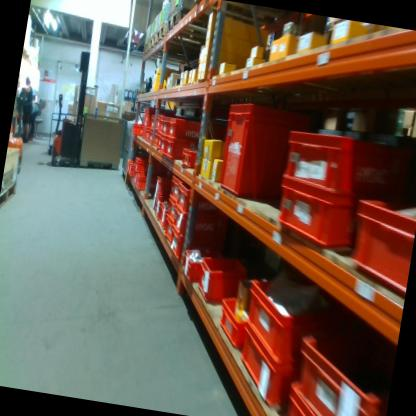pallet: (164, 4, 216, 42), (0, 177, 18, 216), (154, 20, 169, 47), (146, 31, 157, 53), (140, 43, 149, 60)
pallet_truck: (43, 42, 100, 170), (3, 104, 34, 175)
small_load_carrier: (236, 265, 344, 370), (280, 117, 408, 205), (286, 318, 397, 416), (214, 96, 303, 204), (343, 193, 416, 302), (270, 168, 362, 254), (232, 320, 306, 407), (282, 377, 360, 416), (194, 255, 246, 308), (211, 289, 253, 354), (169, 206, 225, 246), (173, 180, 226, 219), (163, 114, 216, 144), (140, 107, 176, 145), (182, 248, 208, 283), (160, 136, 190, 164), (133, 157, 164, 177), (135, 173, 162, 193), (168, 227, 185, 258), (161, 215, 177, 247), (168, 171, 184, 199), (156, 200, 170, 232), (153, 176, 176, 195), (164, 191, 180, 217), (180, 146, 199, 167), (153, 113, 171, 134), (149, 193, 163, 215), (152, 196, 163, 218), (160, 116, 170, 135), (158, 134, 167, 152), (155, 130, 163, 150), (131, 122, 143, 135), (157, 116, 165, 133), (151, 132, 159, 149), (126, 160, 135, 174), (149, 114, 156, 129), (143, 128, 149, 144), (147, 131, 154, 144), (128, 164, 134, 176), (133, 171, 137, 184)
stillage: (74, 109, 128, 174), (116, 120, 133, 182)
